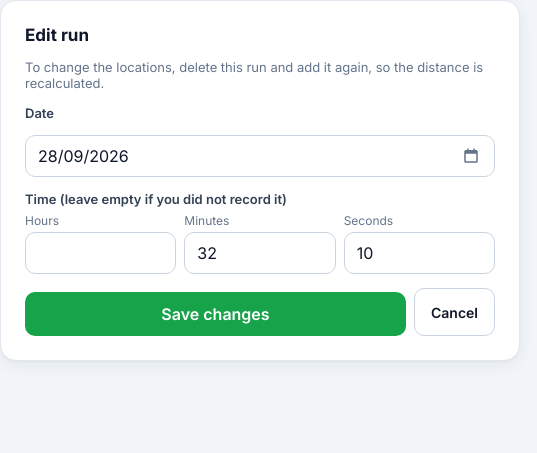
Test case: EditRunForm › shows the error when saving fails
Click the button "Save changes": (216, 314) [25,292,406,336]
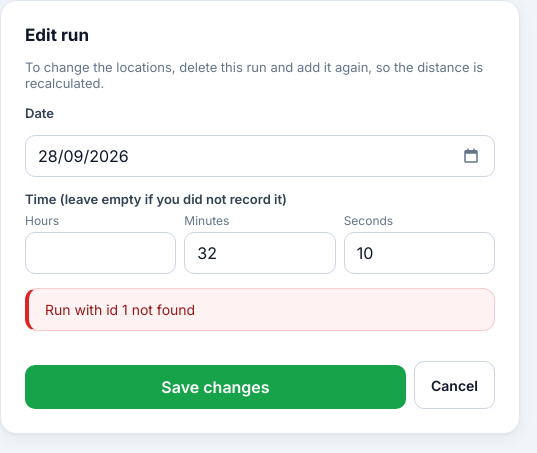
Now the text "Run with id 1 not found" is shown, box [25,288,495,331]
